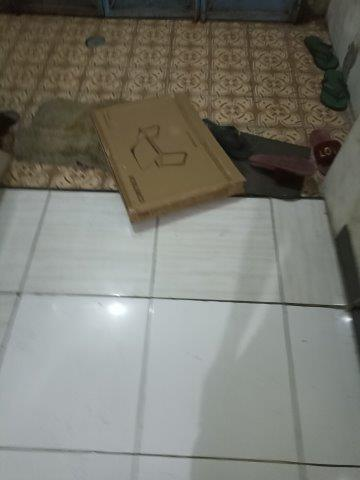kardus: (95, 95, 244, 223)
